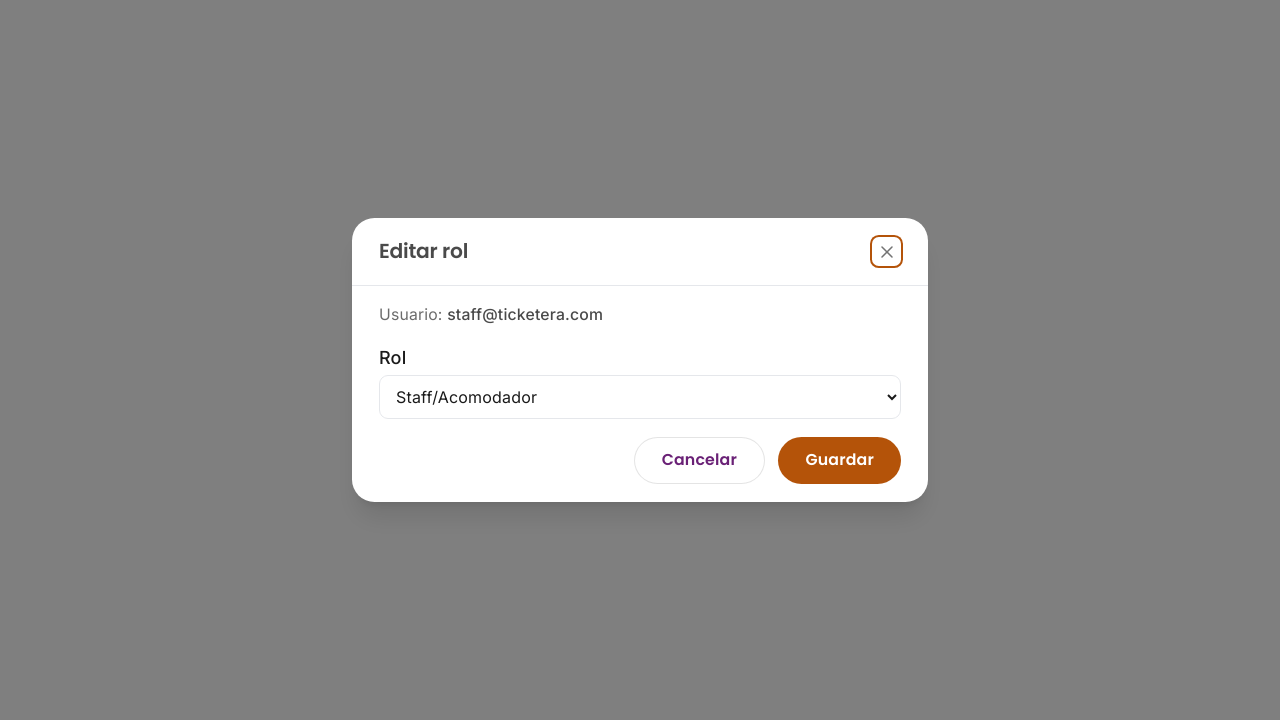
Test: RoleEditModal › surfaces the 400 self-edit error as feedback, keeps the modal open and applies no change
Click the button "Guardar" at (840, 460), box [778,437,901,484]
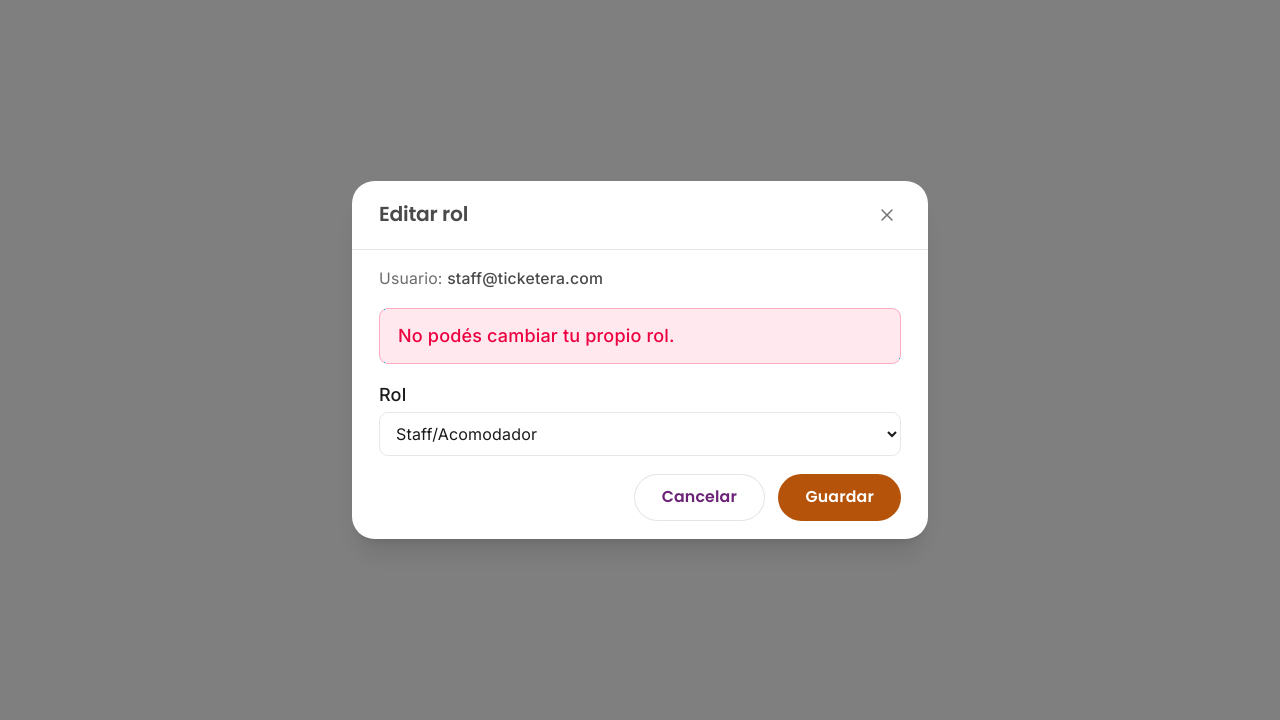
expect the button "Guardar" is shown: met, box [778,474,901,521]
expect the message shows "No podés cambiar tu propio rol": met, box [398,325,675,346]
